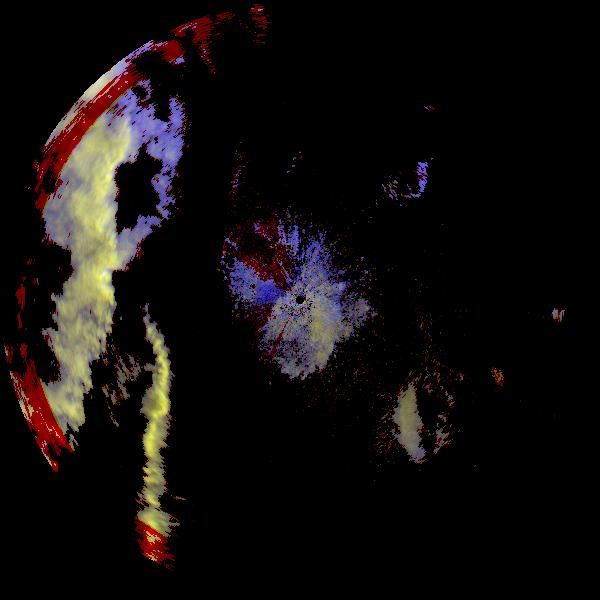roost: (375, 342, 534, 501)
